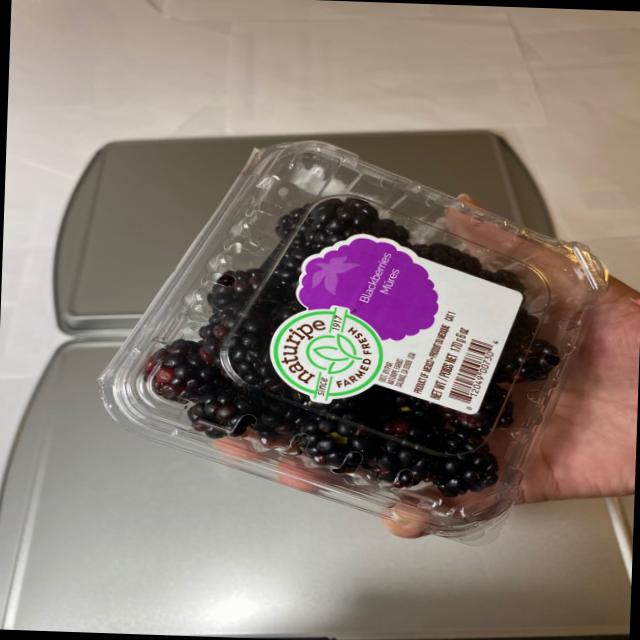blackberries: (106, 120, 582, 526)
